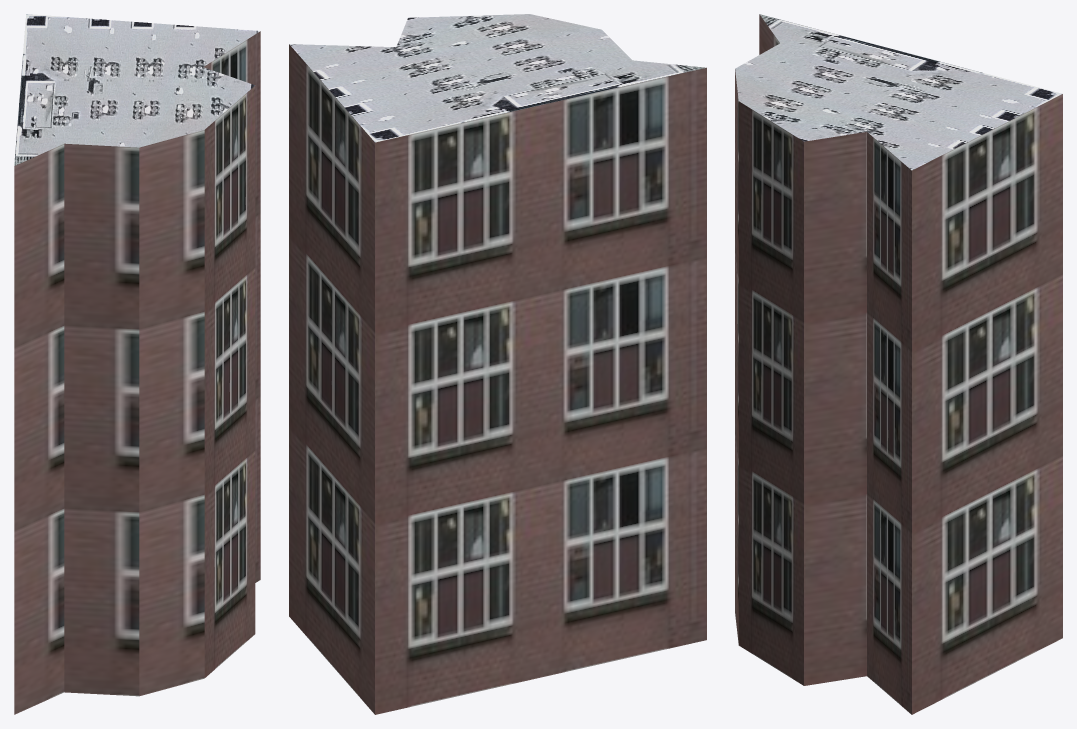
File: ResTex__3258.fbx
3 views of the same model, side by side, from view 1: azimuth 30°, elevation 25°; view 2: azimuth 150°, elevation 25°; view 3: azimuth 270°, elevation 25° (orthographic). The views are drawn at different scales.
Parts seen in each view (by area): view 1: CityEngineMaterial_12_m, CityEngineMaterial_4_m; view 2: CityEngineMaterial_12_m, CityEngineMaterial_4_m; view 3: CityEngineMaterial_12_m, CityEngineMaterial_4_m.
Boxes of the visible parts, x1=… form: CityEngineMaterial_12_m: x1=14, y1=31, x2=260, y2=714; CityEngineMaterial_4_m: x1=14, y1=14, x2=260, y2=165; CityEngineMaterial_12_m: x1=289, y1=44, x2=706, y2=714; CityEngineMaterial_4_m: x1=289, y1=14, x2=705, y2=142; CityEngineMaterial_12_m: x1=735, y1=14, x2=1062, y2=714; CityEngineMaterial_4_m: x1=735, y1=14, x2=1062, y2=170.
Size of the model in its own units: 5.55 by 9 by 4.91.
2 materials, 2 textured.
